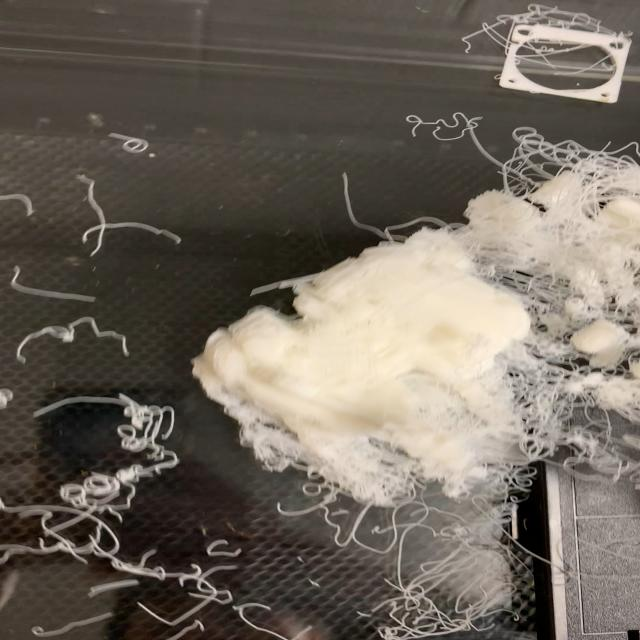spaghetti: (154, 114, 640, 512)
